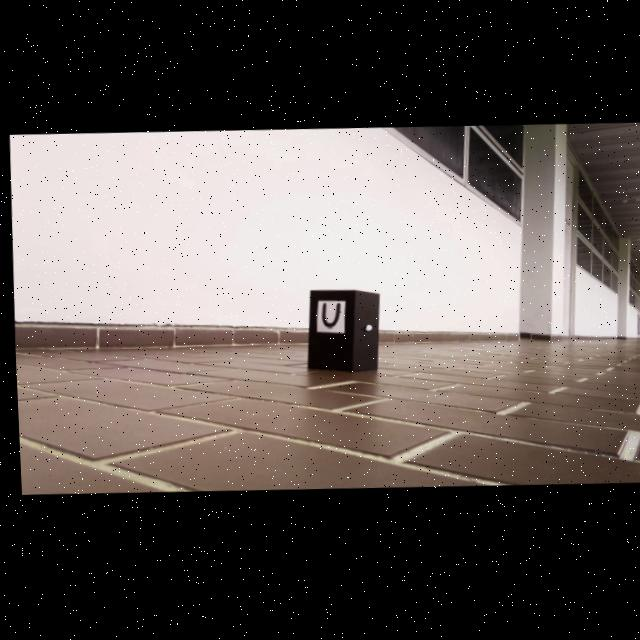U: (319, 305, 337, 330)
